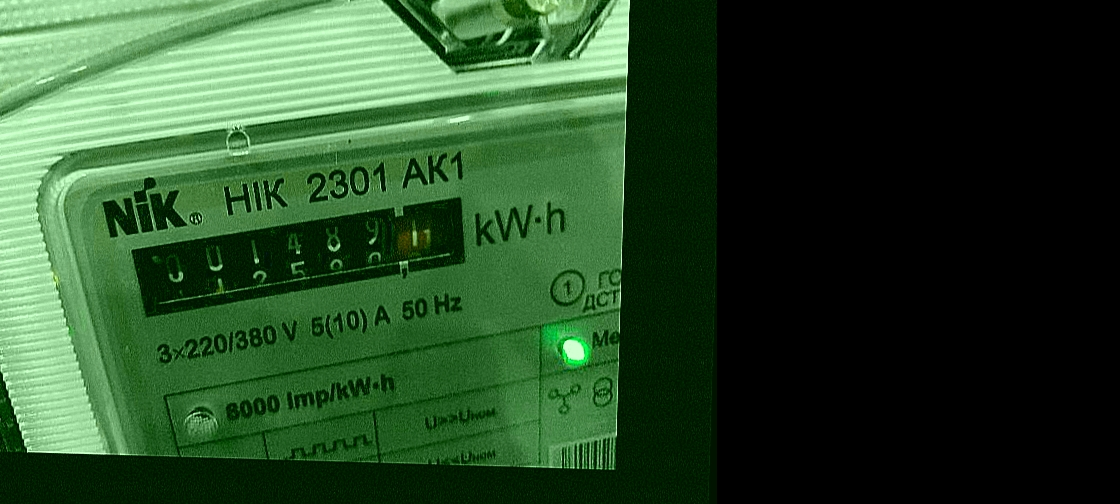0: (197, 238, 224, 275), (159, 251, 184, 286)
1: (401, 212, 421, 251), (242, 235, 262, 267)
4: (280, 226, 303, 258)
8: (320, 220, 342, 256)
9: (359, 215, 380, 247)
screen: (115, 178, 494, 340)
